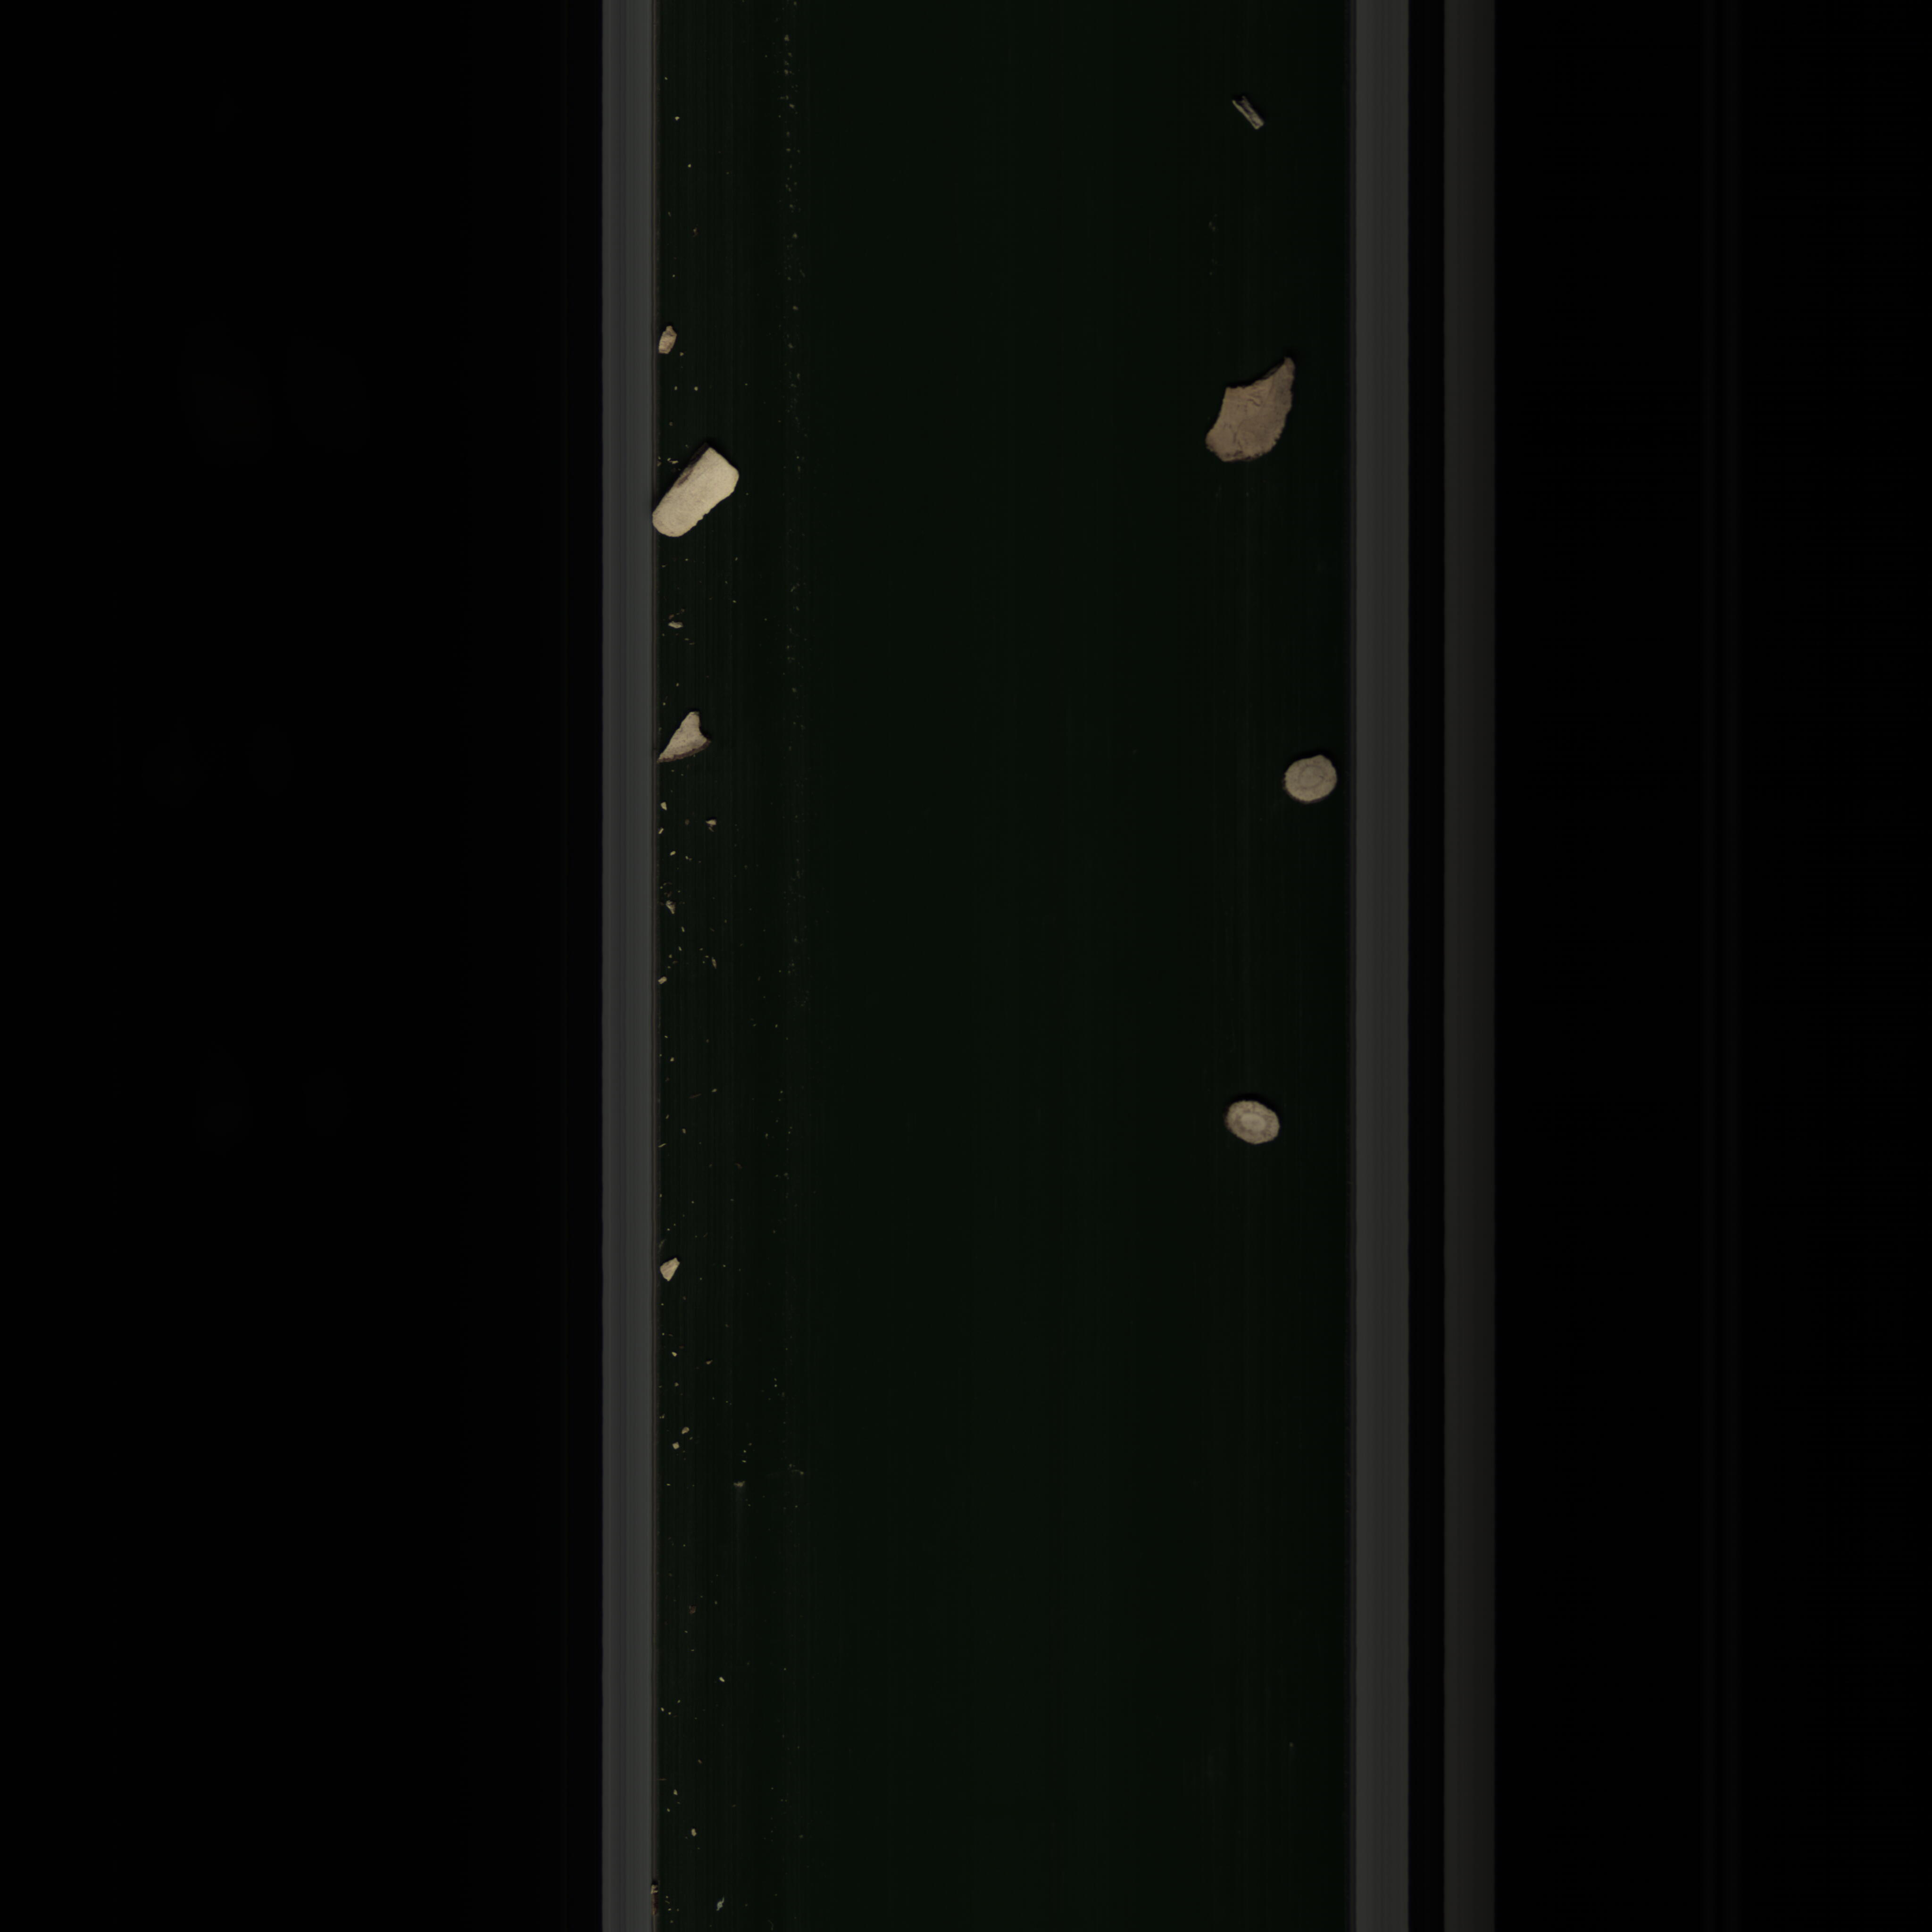bark: (1200, 345, 1306, 474)
debris: (649, 697, 727, 775)
distortion: (639, 437, 757, 543)
